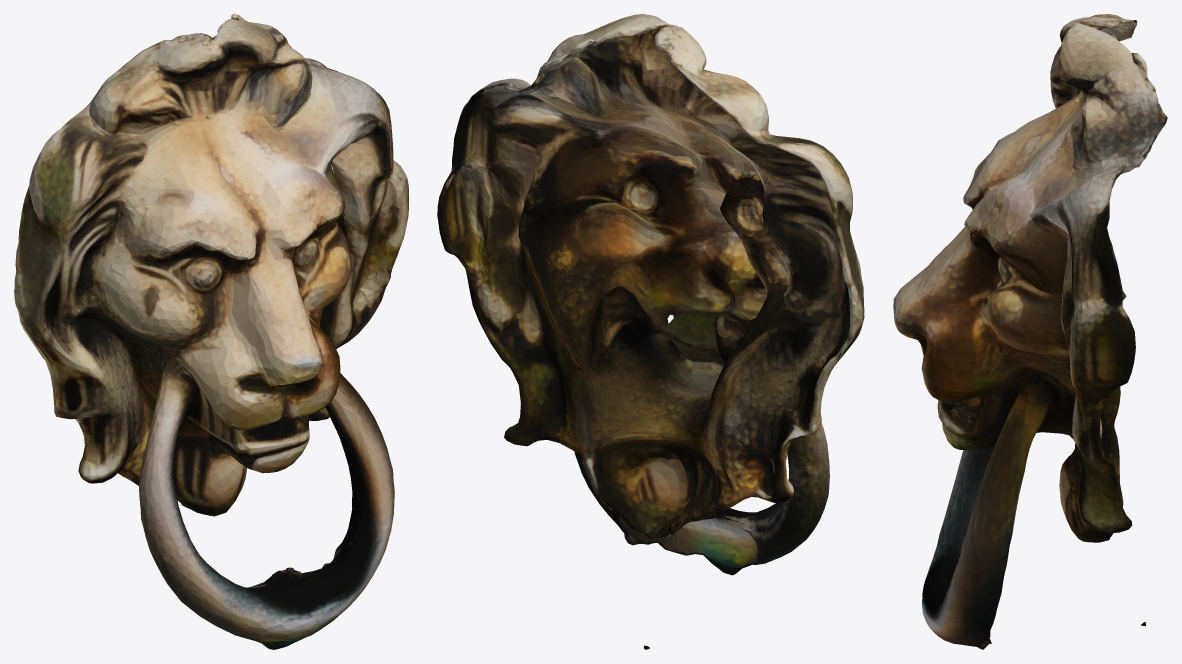
3 views of the same model, side by side, from view 1: azimuth 30°, elevation 25°; view 2: azimuth 150°, elevation 25°; view 3: azimuth 270°, elevation 25° (orthographic). The views are drawn at different scales.
Parts seen in each view (by area): view 1: world; view 2: world; view 3: world.
Boxes of the visible parts, x1,y1,x2,y2 form: world: (14, 14, 408, 649); world: (437, 14, 864, 649); world: (893, 14, 1167, 649).
Bounding box in the file's own units: 0.7029 × 0.988 × 0.4026.
Materials: 1 (1 with a texture image).
